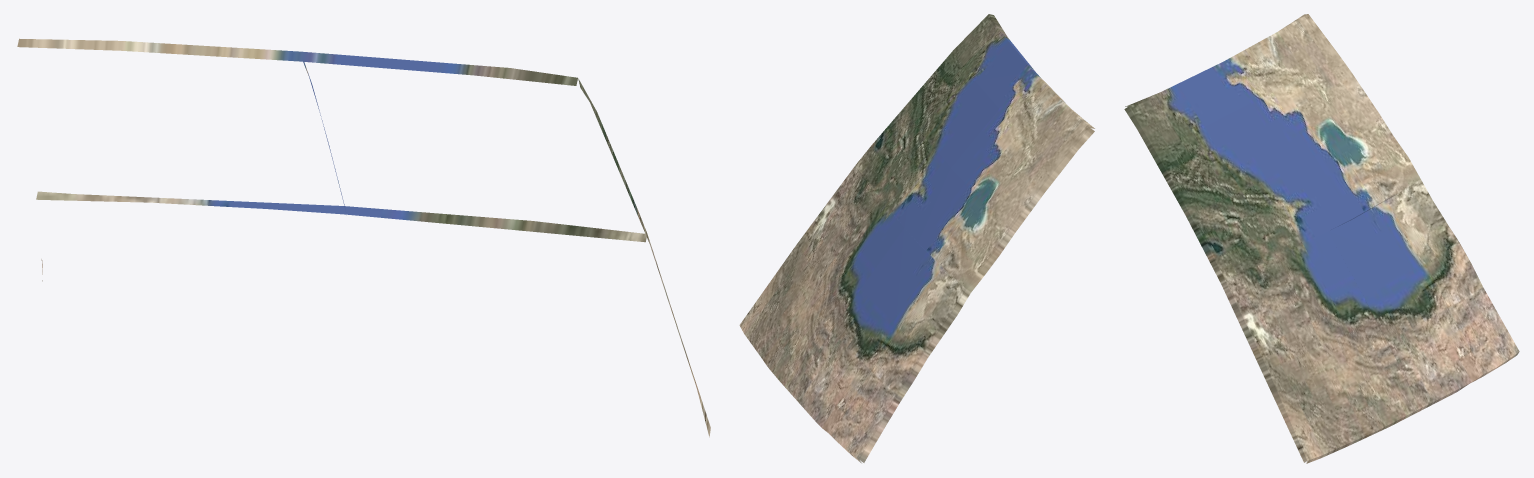
3 views of the same model, side by side, from view 1: azimuth 30°, elevation 25°; view 2: azimuth 150°, elevation 25°; view 3: azimuth 270°, elevation 25° (orthographic). The views are drawn at different scales.
Size of the model in its own units: 1263129 by 983797 by 1239486.
1 material, 1 textured.
